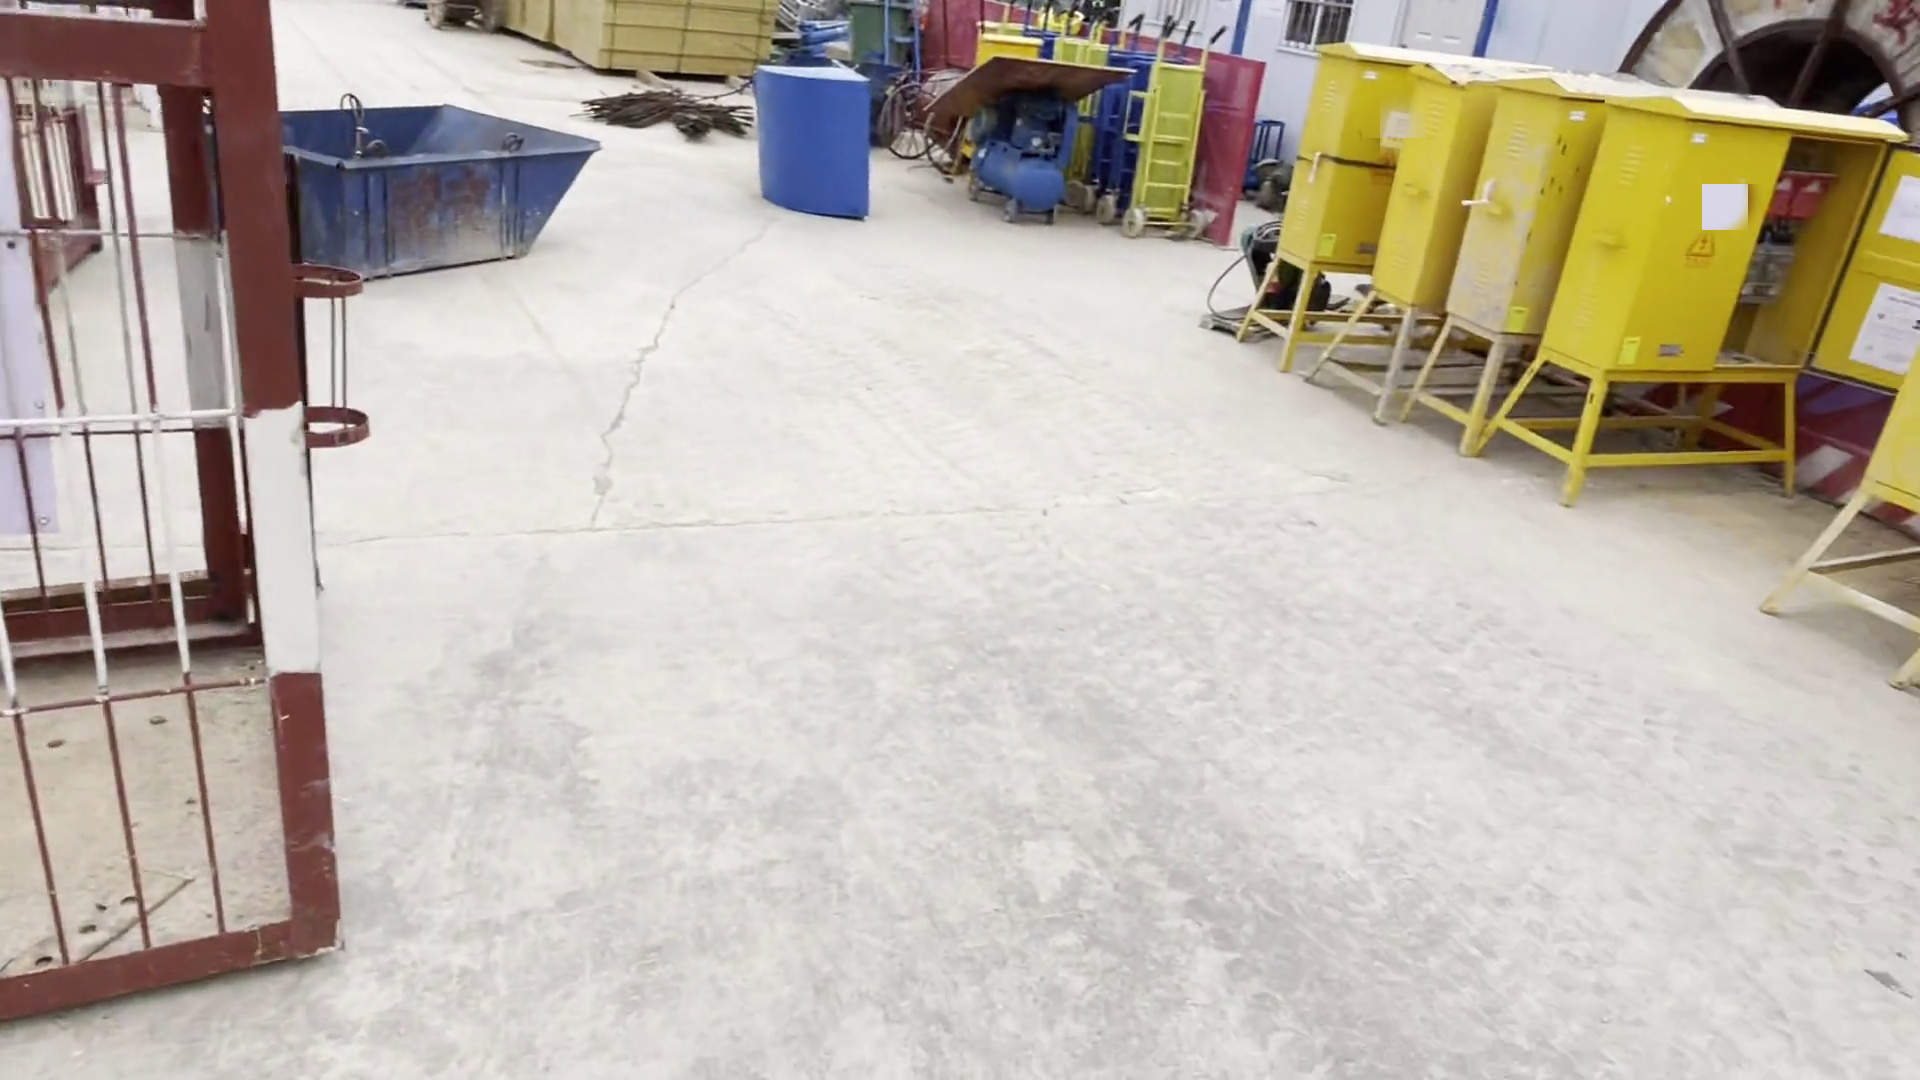ebox: (1524, 74, 1813, 512), (1229, 20, 1415, 404), (1433, 61, 1576, 464), (1346, 46, 1485, 422)
handcart: (876, 1, 971, 189)
hopper: (268, 82, 620, 295)
